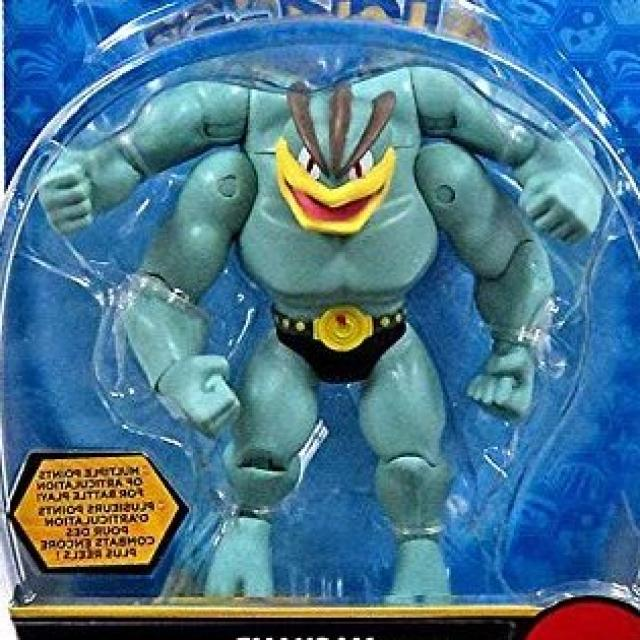Machamp: (116, 69, 558, 568)
